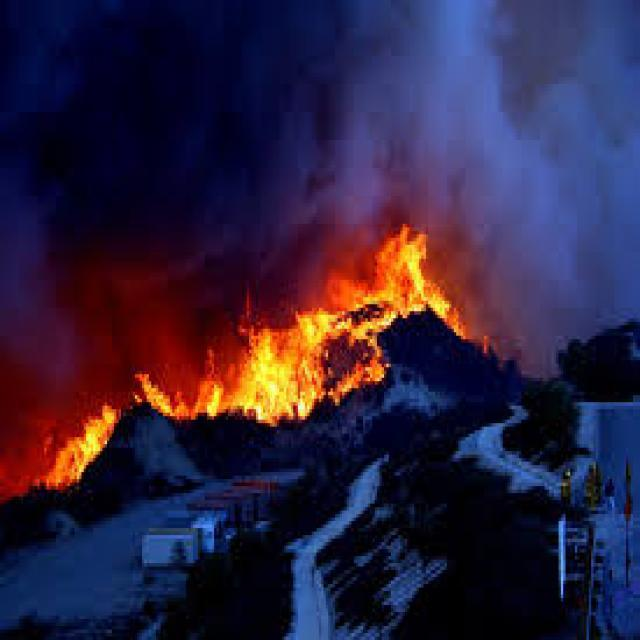Fire: (361, 215, 481, 369), (248, 298, 342, 420), (38, 416, 108, 520), (152, 364, 248, 439)
Smoke: (14, 13, 606, 206), (510, 22, 632, 321), (28, 192, 222, 350)
